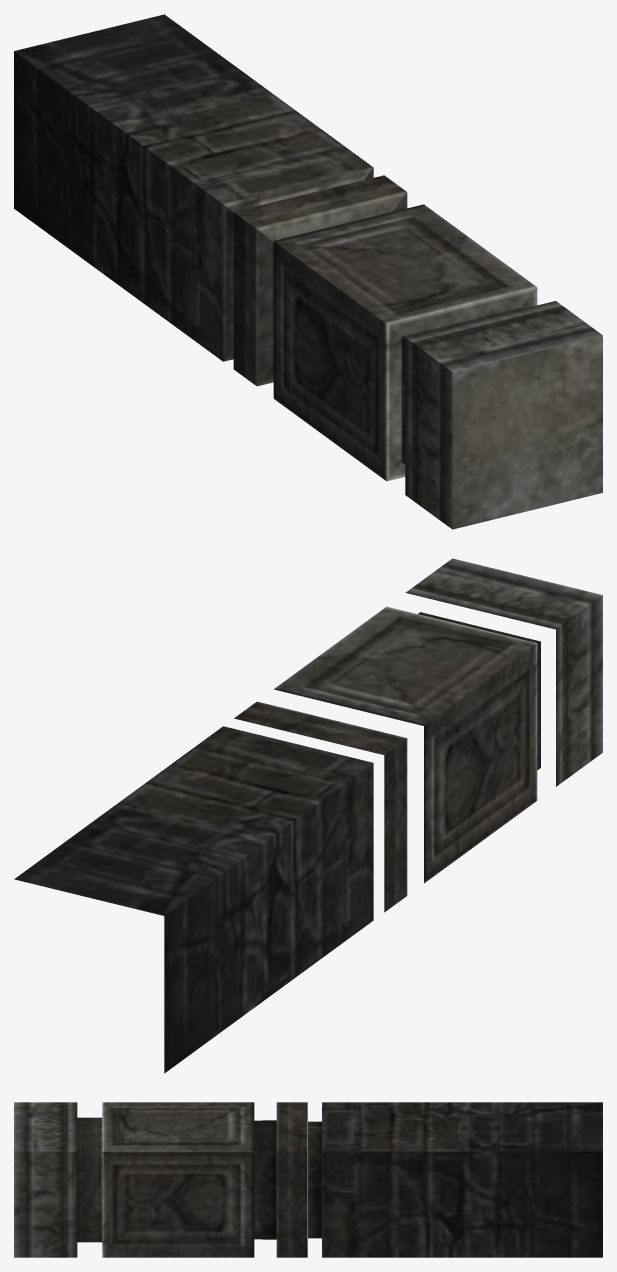
3 renders of one model, top to bottom at view 1: azimuth 30°, elevation 25°; view 2: azimuth 150°, elevation 25°; view 3: azimuth 270°, elevation 25°, orthographic. The views are drawn at different scales.
Parts seen in each view (by area): view 1: model_Object28; view 2: model_Object28; view 3: model_Object28.
Boxes of the visible parts, x1,y1,x2,y2 form: model_Object28: (14, 14, 602, 529); model_Object28: (14, 558, 602, 1073); model_Object28: (14, 1102, 602, 1257).
Size of the model in its own units: 0.3668 by 0.3668 by 1.85.
Materials: 1 (1 with a texture image).
